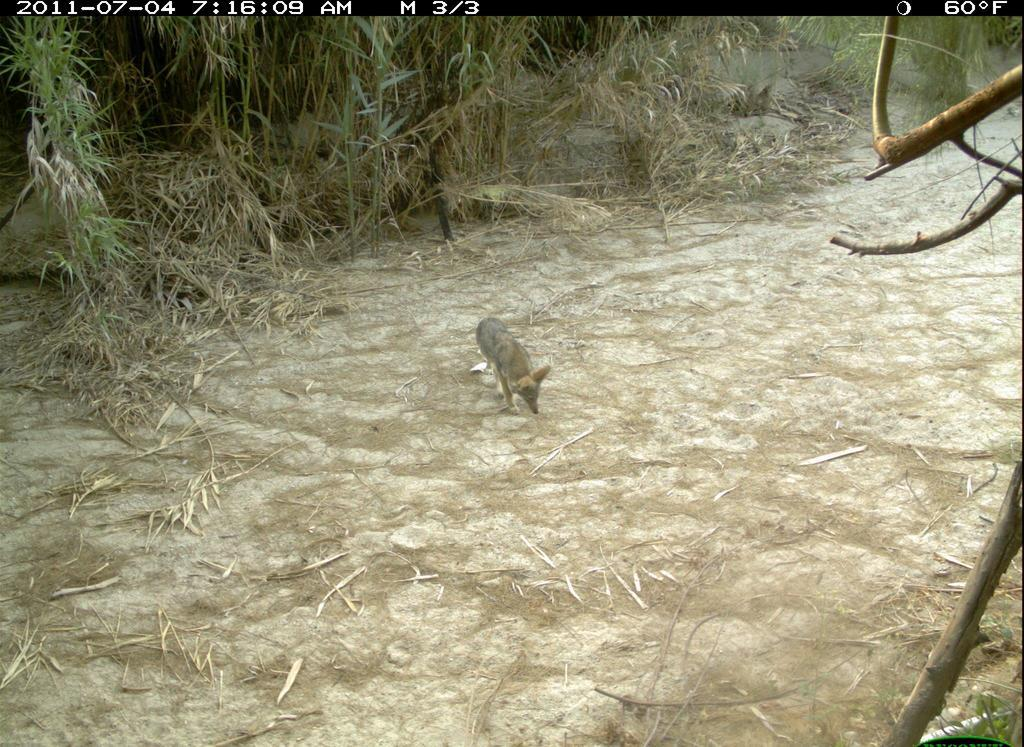coyote: (469, 306, 557, 424)
